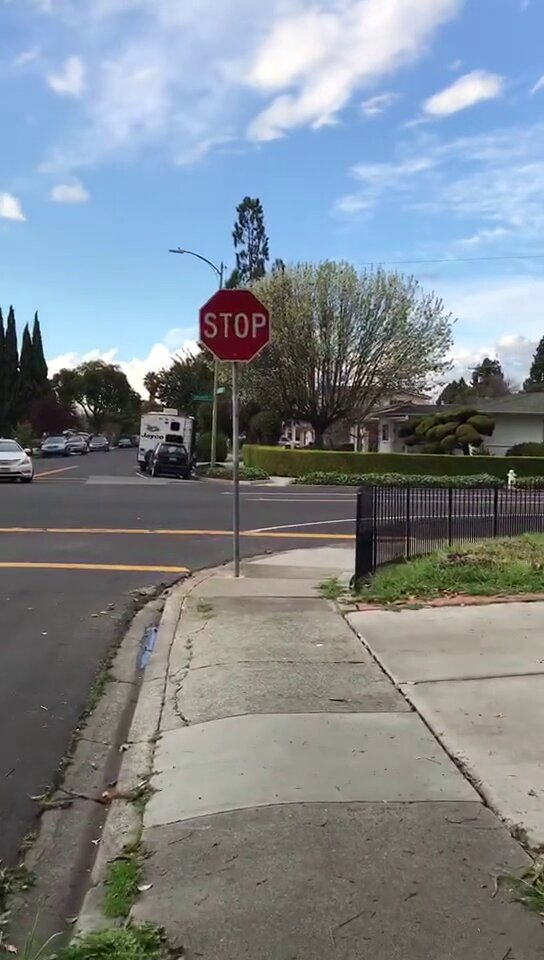stop_sign: (199, 285, 271, 362)
